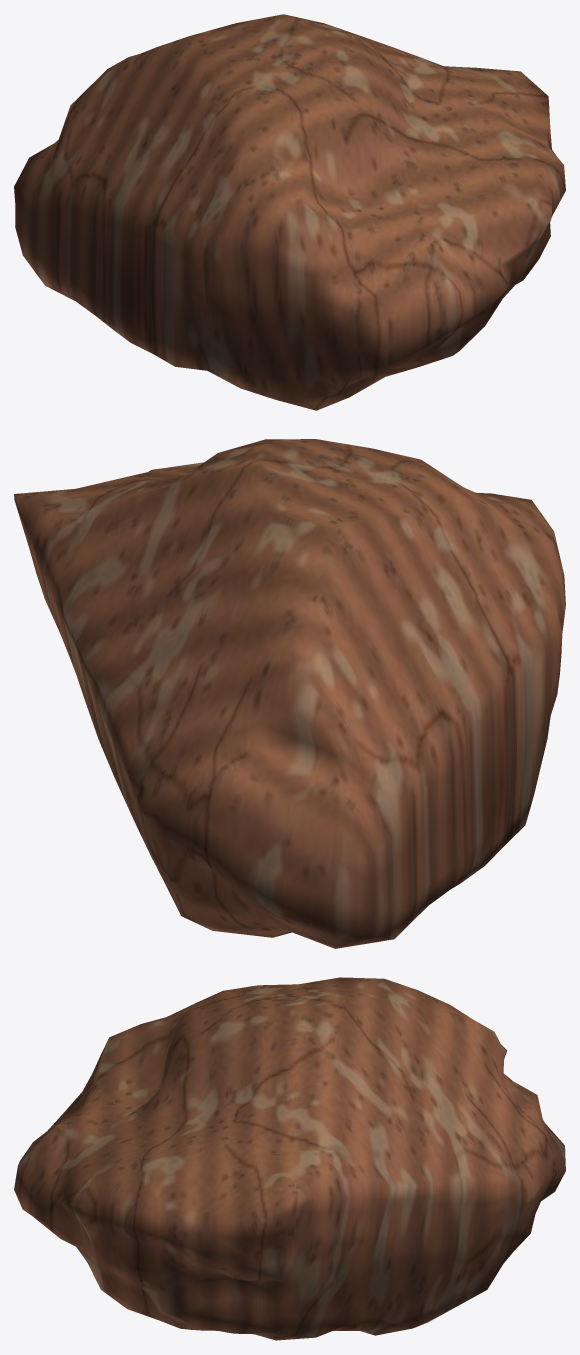
Rendered from rock-redstone-1.lite.glb.
The picture shows the model from 3 angles, top to bottom: view 1: azimuth 30°, elevation 25°; view 2: azimuth 150°, elevation 25°; view 3: azimuth 270°, elevation 25°; orthographic projection. The views are drawn at different scales.
Visible parts, largest first — view 1: model; view 2: model; view 3: model.
Part boxes in pixels (x1,y1,x2,y2): model: (14,14,565,410); model: (14,439,565,948); model: (14,977,565,1340).
Bounding box in the file's own units: 1 × 0.7616 × 1.17.
Materials: 1 (1 with a texture image).
